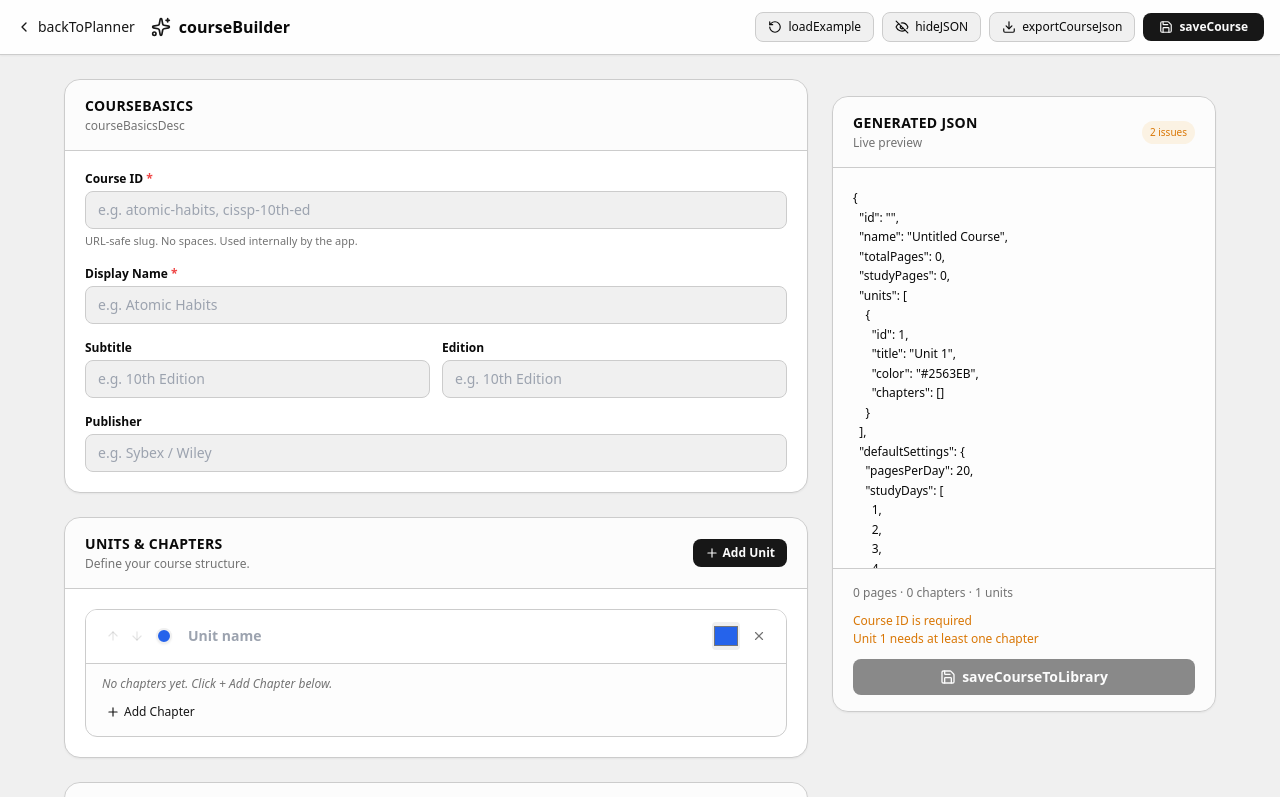
Test: CourseBuilder › removes a unit when X is clicked (when > 1 unit)
Load example → 3 units
Click the button "loadExample".
click(815, 27)  # box left=755, top=12, right=874, bottom=42
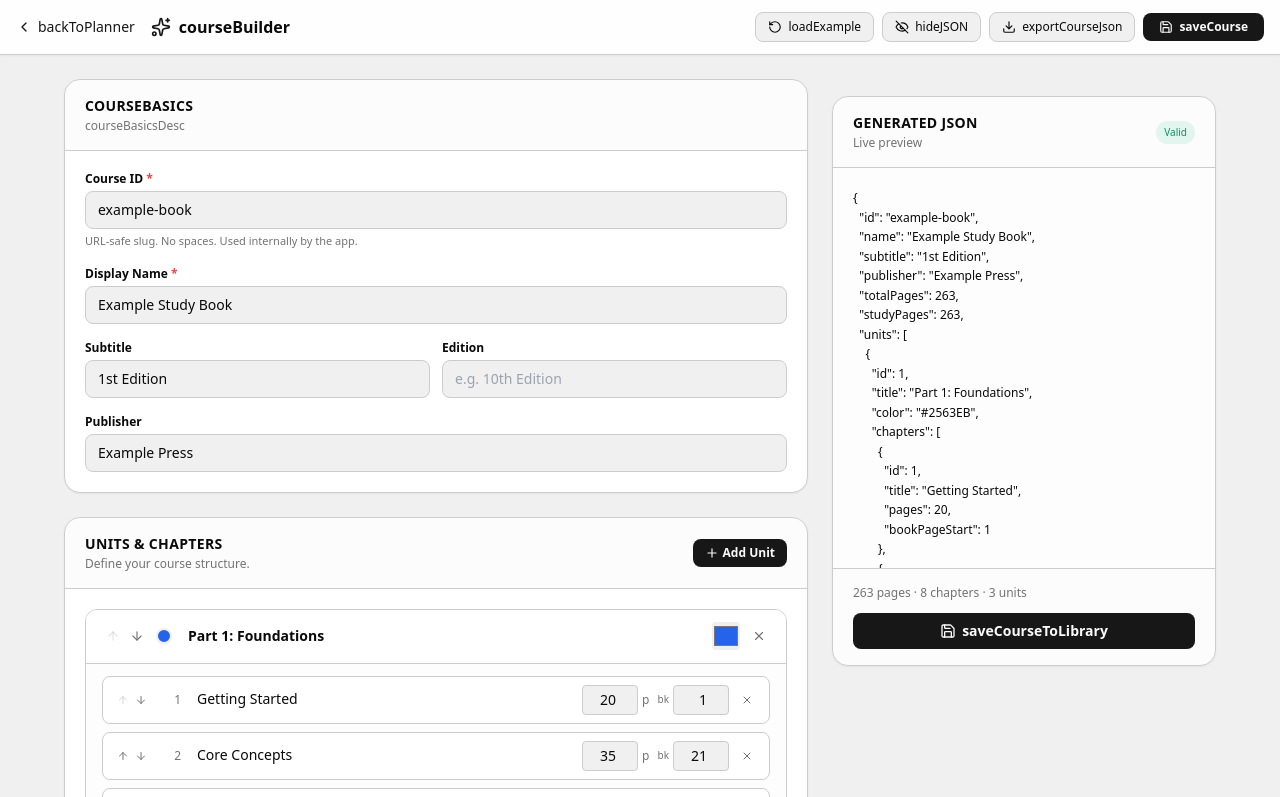
Check: the number of fields with placeholder "Unit name" is 3
Click the X button on the first unit
Click the button titled "Remove unit".
click(759, 636)  # box left=748, top=625, right=770, bottom=647
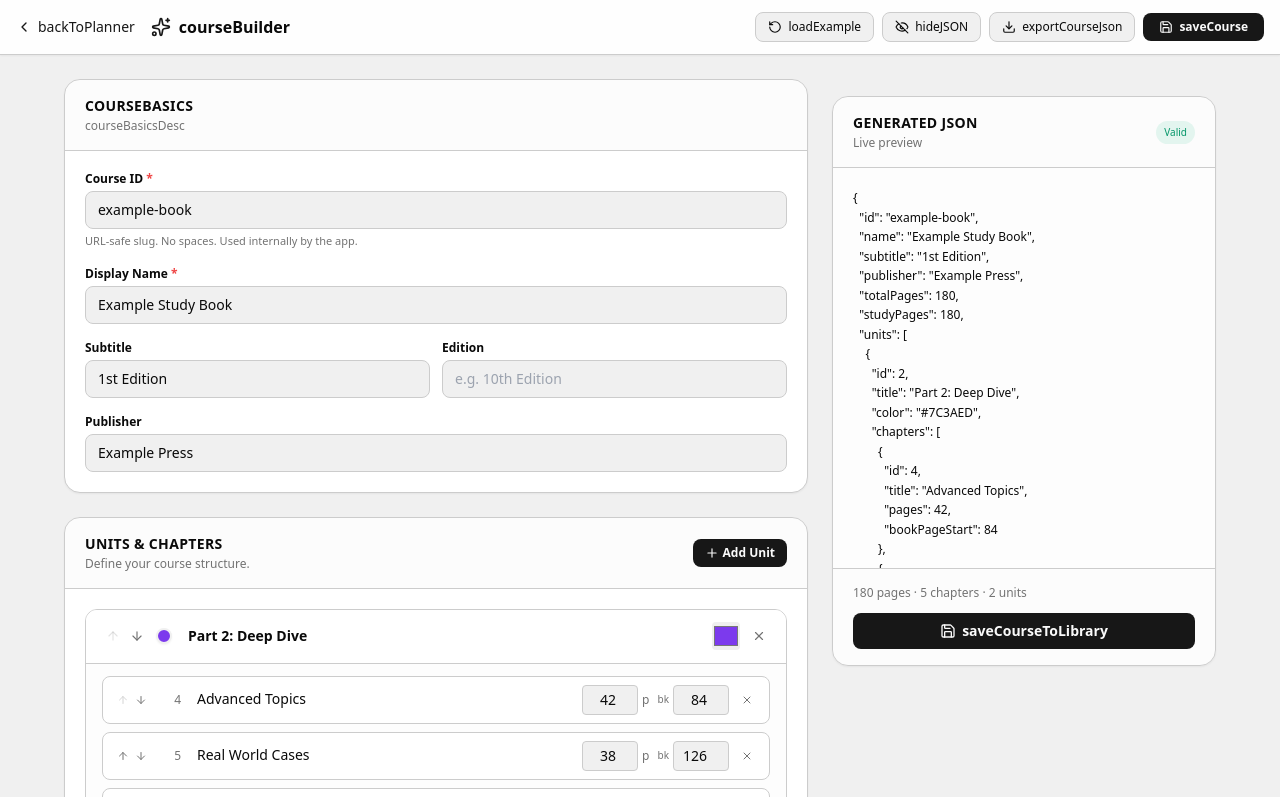
Check: the number of fields with placeholder "Unit name" is 2
